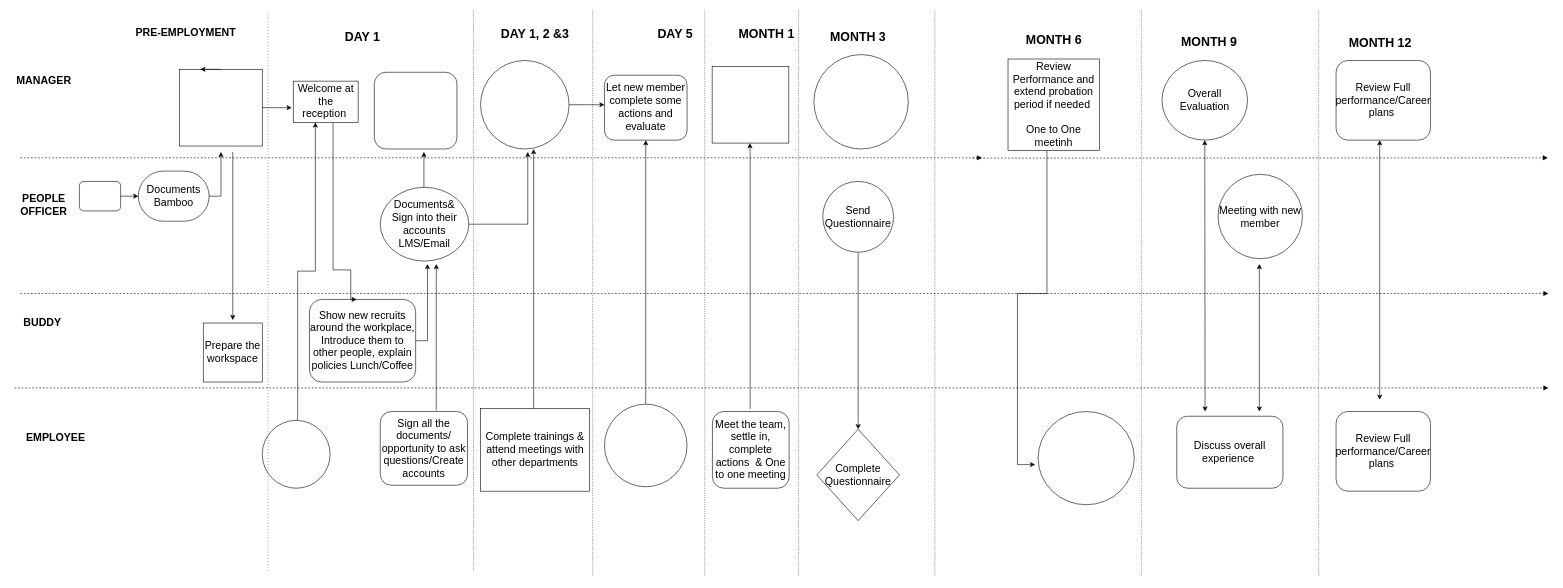
Image size: 1563x588. Some labels were removed from this diagram. The centre of each missing label's shape, as x and y in pixels:
"A week before: Welcome email with the structure of the first day" belongs at (x=220, y=107).
"Arrive at the reception" belongs at (x=296, y=454).
"Complete first actions" belongs at (x=645, y=445).
"Describe Induction Plan/ schedule for next week/ induction check list" belongs at (x=415, y=110).
"Identify needs for further assistance/ One to One meeting" belongs at (x=860, y=101).
"Offer letter" belongs at (x=100, y=196).
"One to One meeting Receive and provide feedback" belongs at (x=1086, y=458).
"Provide Training and support &One to one in the end of the month" belongs at (x=750, y=104).
"Schedule meetings for new recruit" belongs at (x=524, y=104).
